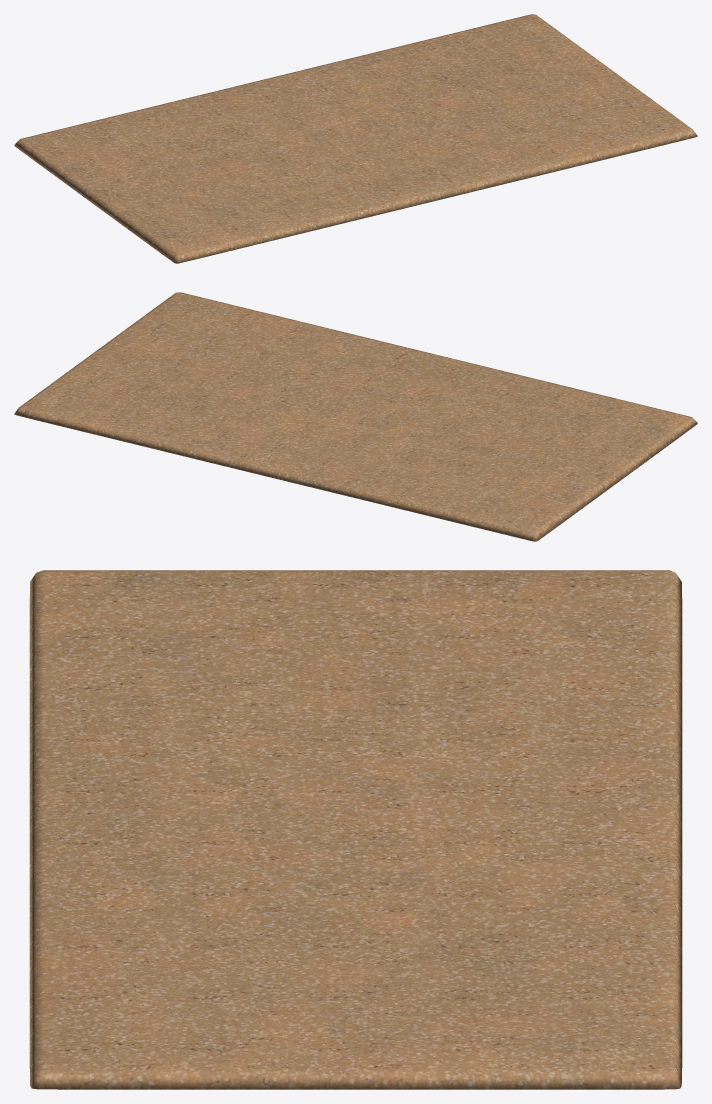
The model's file is brevbarare_dywan_z_dugim_wosiem_40627976.glb.
3 renders of one model, top to bottom at view 1: azimuth 30°, elevation 25°; view 2: azimuth 150°, elevation 25°; view 3: azimuth 270°, elevation 25°, orthographic. The views are drawn at different scales.
Visible parts, largest first — view 1: brevbarare_dywan_z_dugim_wosiem_40627976; view 2: brevbarare_dywan_z_dugim_wosiem_40627976; view 3: brevbarare_dywan_z_dugim_wosiem_40627976.
Part boxes in pixels (<box>): brevbarare_dywan_z_dugim_wosiem_40627976: <box>14,14,697,263</box>; brevbarare_dywan_z_dugim_wosiem_40627976: <box>14,292,697,541</box>; brevbarare_dywan_z_dugim_wosiem_40627976: <box>29,570,682,1089</box>.
Size of the model in its own units: 1.53 by 0.0212 by 0.8235.
1 material, 1 textured.
